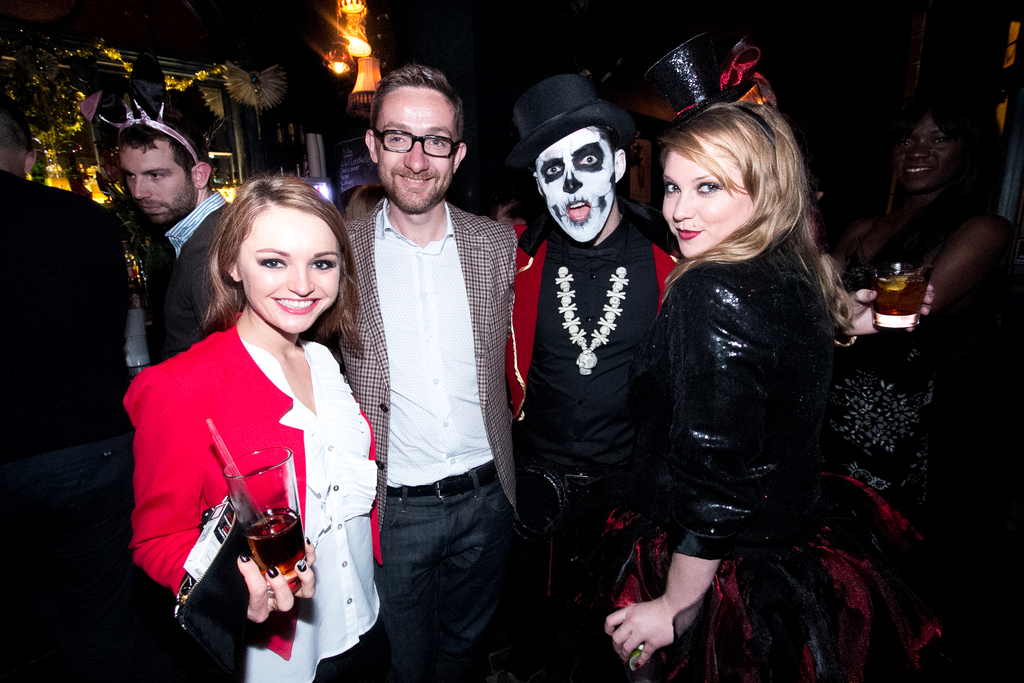Person: (0, 30, 1024, 682)
